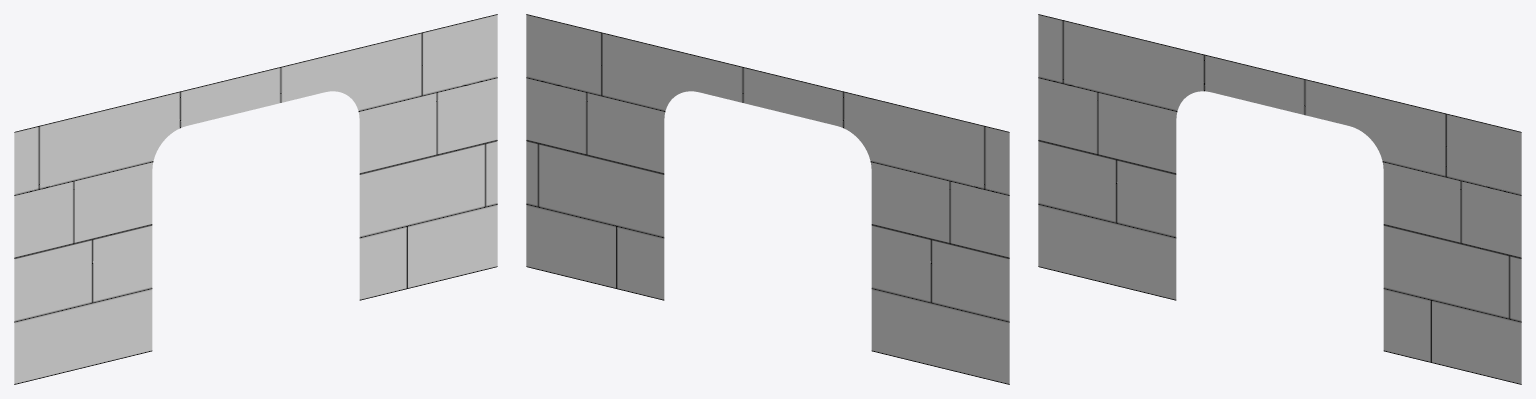
File: Wall700cmFrameRound300cm.FBX
The picture shows the model from 3 angles, left to right: view 1: azimuth 30°, elevation 25°; view 2: azimuth 150°, elevation 25°; view 3: azimuth 330°, elevation 25°; orthographic projection.
Parts seen in each view (by area): view 1: Wall700cmFrameRound300cm; view 2: Wall700cmFrameRound300cm; view 3: Wall700cmFrameRound300cm.
Part boxes in pixels (x1,y1,x2,y2): Wall700cmFrameRound300cm: [14, 14, 497, 384]; Wall700cmFrameRound300cm: [526, 14, 1009, 384]; Wall700cmFrameRound300cm: [1038, 14, 1521, 384].
Bounding box in the file's own units: 700 × 350 × 4.62e-05.
